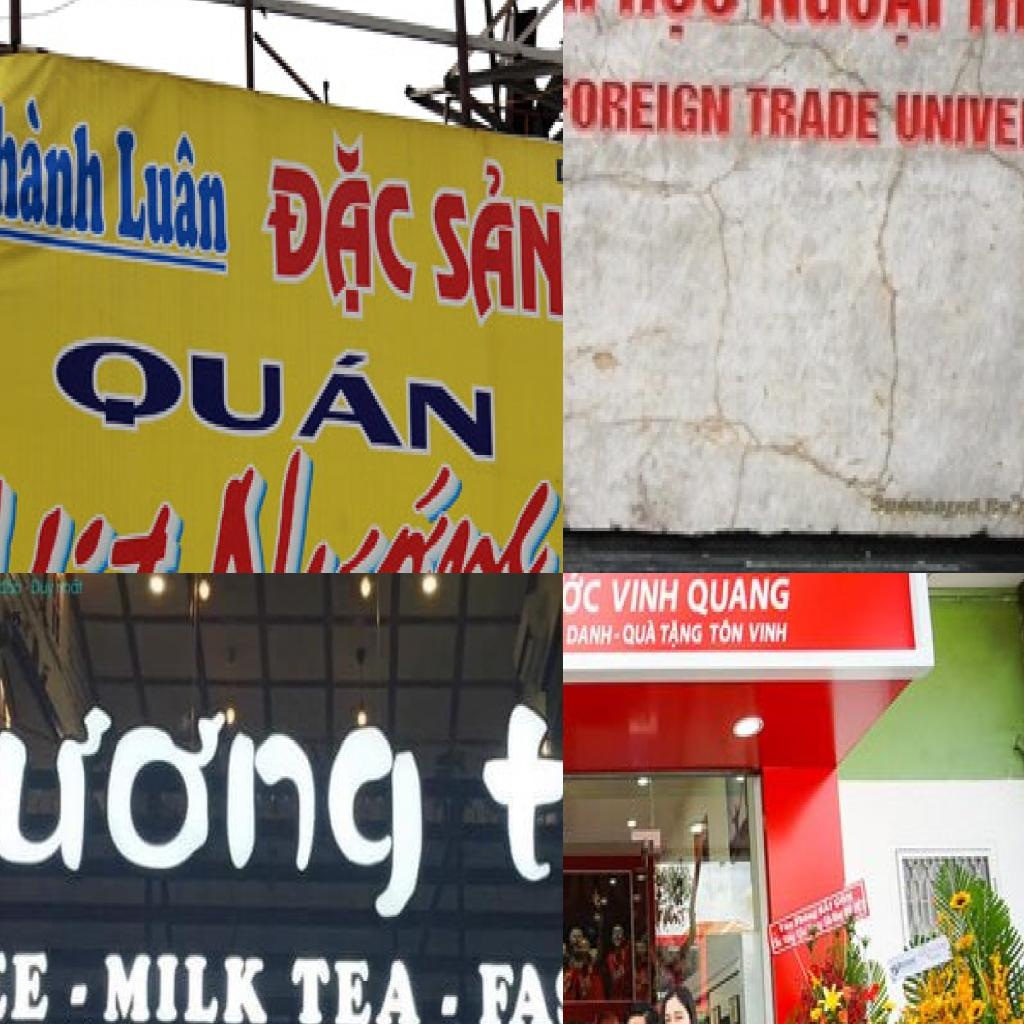text: (0, 672, 425, 923), (44, 302, 507, 474), (182, 467, 563, 573), (255, 122, 416, 324), (428, 156, 563, 333), (0, 464, 203, 573), (0, 72, 106, 243), (473, 700, 563, 890), (112, 116, 234, 256), (563, 62, 736, 144), (98, 950, 269, 1024), (742, 82, 886, 154), (758, 0, 950, 52), (287, 956, 423, 1024), (614, 0, 746, 48), (474, 960, 563, 1024), (685, 574, 793, 620), (609, 577, 682, 617), (563, 573, 603, 620), (564, 622, 622, 650), (658, 617, 704, 650), (747, 620, 791, 647), (621, 620, 658, 650), (708, 617, 745, 647), (55, 576, 89, 602), (29, 578, 57, 602), (0, 575, 25, 599), (550, 153, 563, 193)
